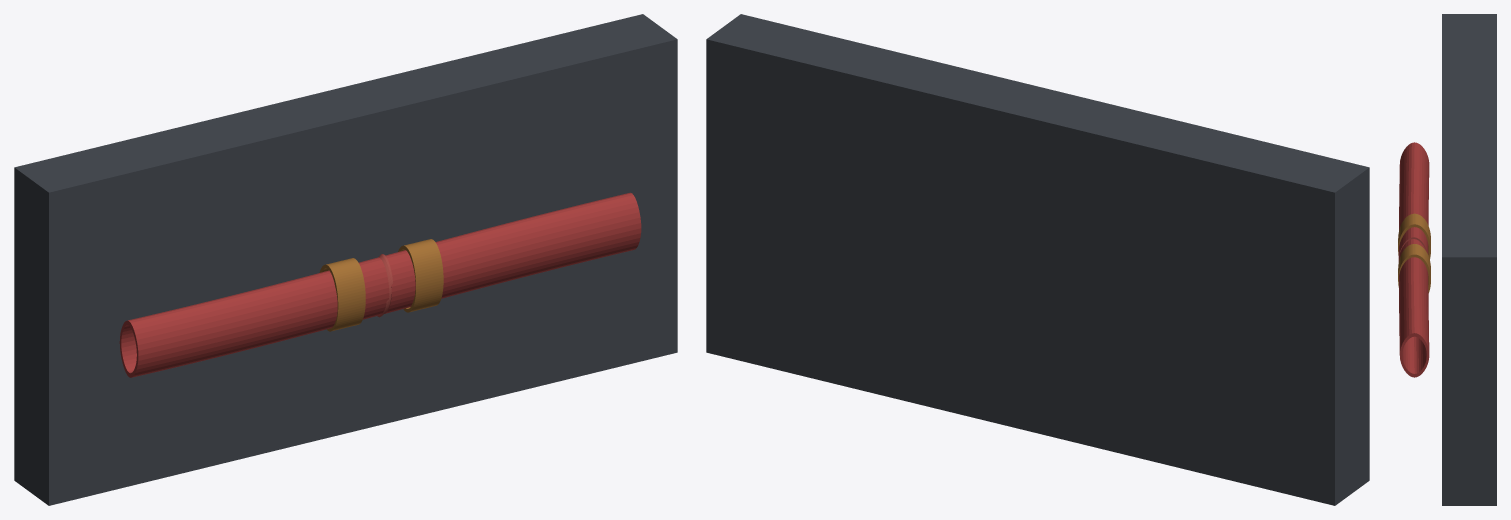
Rendered from dranmar_seal_divide_vessel_sealed.glb.
The picture shows the model from 3 angles, left to right: view 1: azimuth 30°, elevation 25°; view 2: azimuth 150°, elevation 25°; view 3: azimuth 270°, elevation 25°; orthographic projection. The views are drawn at different scales.
Parts seen in each view (by area): view 1: FixtureBase, LeftVessel, RightVessel, LeftSealBand, RightSealBand; view 2: FixtureBase; view 3: FixtureBase, RightVessel, LeftVessel, LeftSealBand, RightSealBand.
Part boxes in pixels (x1,y1,x2,y2): FixtureBase: (14,14,677,505); LeftVessel: (119,257,389,377); RightVessel: (384,192,641,313); LeftSealBand: (319,258,365,331); RightSealBand: (398,239,443,312); FixtureBase: (706,14,1369,505); FixtureBase: (1442,14,1496,505); RightVessel: (1398,239,1429,377); LeftVessel: (1398,142,1429,259); LeftSealBand: (1398,213,1430,259); RightSealBand: (1398,244,1430,292).
Bounding box in the file's own units: 0.105 × 0.05 × 0.018.
